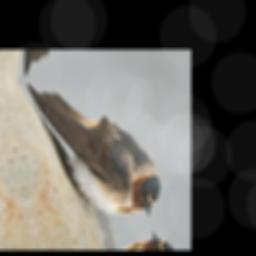Swallow: (26, 57, 168, 236)
